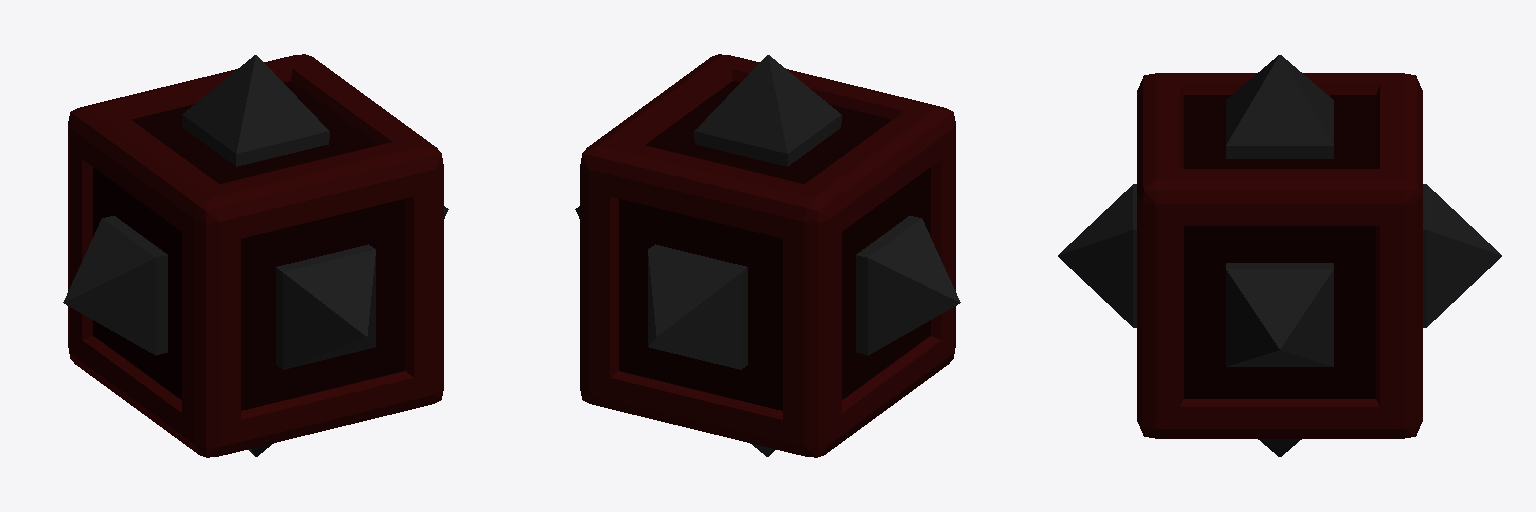
Rendered from Cube_Spikes.obj.
3 views of the same model, side by side, from view 1: azimuth 30°, elevation 25°; view 2: azimuth 150°, elevation 25°; view 3: azimuth 270°, elevation 25° (orthographic).
Parts seen in each view (by area): view 1: Cube_Spikes_Cube.060; view 2: Cube_Spikes_Cube.060; view 3: Cube_Spikes_Cube.060.
Boxes of the visible parts, x1=… form: Cube_Spikes_Cube.060: x1=63, y1=54, x2=448, y2=457; Cube_Spikes_Cube.060: x1=575, y1=54, x2=960, y2=457; Cube_Spikes_Cube.060: x1=1058, y1=55, x2=1501, y2=456.
Bounding box in the file's own units: 3.15 × 3.15 × 3.15.